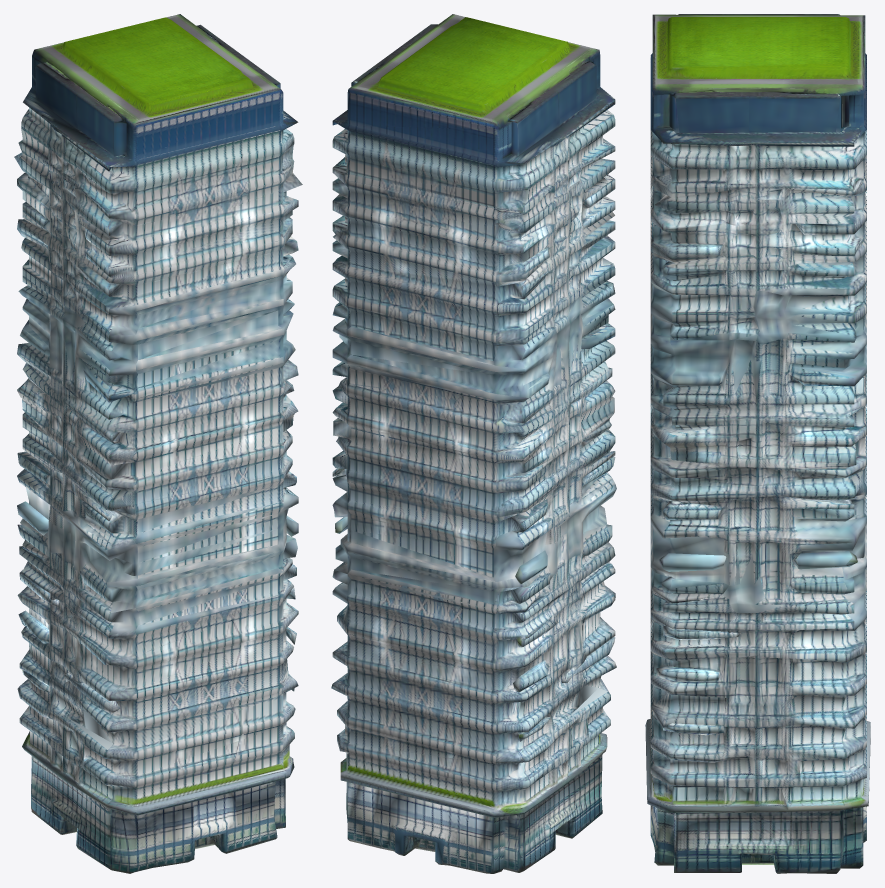
File: skyscraper_large_1.glb
3 views of the same model, side by side, from view 1: azimuth 30°, elevation 25°; view 2: azimuth 150°, elevation 25°; view 3: azimuth 270°, elevation 25° (orthographic). The views are drawn at different scales.
Bounding box in the file's own units: 0.5049 × 1.91 × 0.4932.
1 material, 1 textured.
